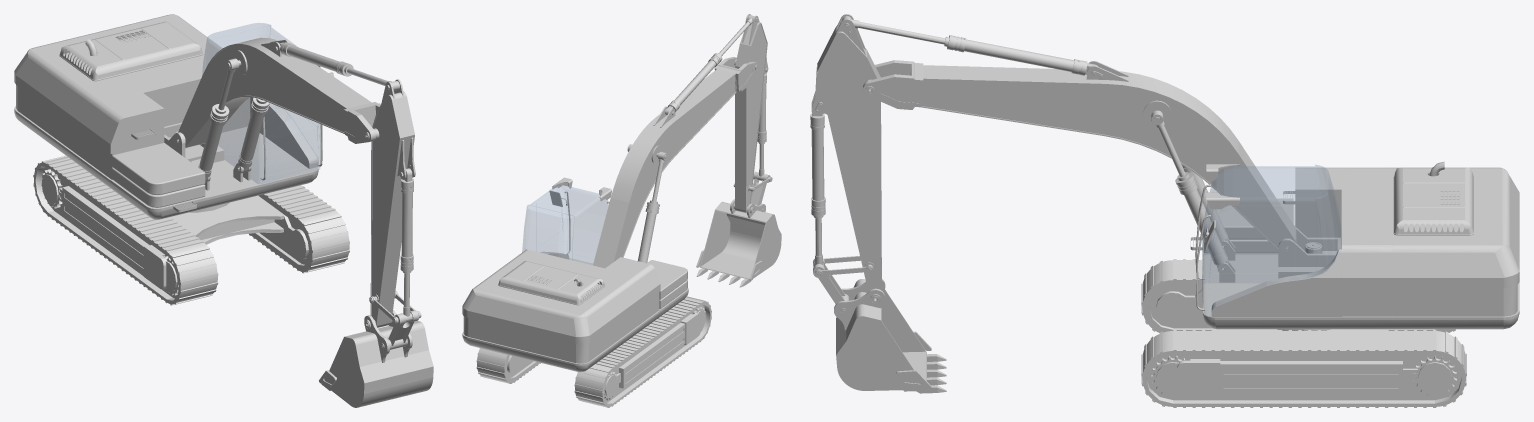
Rendered from Cat320D_full.fbx.
The picture shows the model from 3 angles, left to right: view 1: azimuth 30°, elevation 25°; view 2: azimuth 150°, elevation 25°; view 3: azimuth 270°, elevation 25°; orthographic projection. The views are drawn at different scales.
Visible parts, largest first — view 1: cuerpo, llanta_completa2, Objeto_Poligonal_10, Objeto_Poligonal_49, Objeto_Poligonal_19, mano, llanta_completa1, rejilla, Objeto_Poligonal_26, Objeto_Poligonal_25, Objeto_Poligonal_33, Objeto_Poligonal_39 (+8 smaller); view 2: cuerpo, Objeto_Poligonal_10, llanta_completa2, Objeto_Poligonal_19, mano, Objeto_Poligonal_49, rejilla, llanta_completa1, Objeto_Poligonal_26, Objeto_Poligonal_12, tuboo_2_brazo, pistón (+2 smaller); view 3: cuerpo, llanta_completa1, Objeto_Poligonal_10, Objeto_Poligonal_19, Objeto_Poligonal_49, mano, rejilla, llanta_completa2, Objeto_Poligonal_12, Objeto_Poligonal_28, tuboo_2_brazo, Objeto_Poligonal_39 (+5 smaller).
Boxes of the visible parts, x1,y1,x2,y2 form: cuerpo: (14, 14, 318, 219); llanta_completa2: (34, 156, 217, 304); Objeto_Poligonal_10: (178, 37, 371, 147); Objeto_Poligonal_49: (369, 92, 414, 327); Objeto_Poligonal_19: (202, 23, 320, 183); mano: (323, 321, 433, 407); llanta_completa1: (249, 185, 349, 272); rejilla: (59, 21, 203, 81); Objeto_Poligonal_26: (112, 143, 205, 195); Objeto_Poligonal_25: (169, 196, 283, 244); Objeto_Poligonal_33: (112, 168, 205, 207); Objeto_Poligonal_39: (400, 168, 413, 273); cuerpo: (462, 249, 688, 371); Objeto_Poligonal_10: (593, 69, 736, 268); llanta_completa2: (575, 297, 711, 406); Objeto_Poligonal_19: (522, 184, 608, 264); mano: (699, 201, 781, 279); Objeto_Poligonal_49: (734, 22, 767, 213); rejilla: (498, 260, 604, 305); llanta_completa1: (477, 348, 540, 382); Objeto_Poligonal_26: (647, 260, 687, 299); Objeto_Poligonal_12: (714, 57, 758, 91); tuboo_2_brazo: (665, 53, 722, 115); pistón: (638, 200, 659, 263); cuerpo: (1190, 167, 1519, 329); llanta_completa1: (1142, 330, 1465, 407); Objeto_Poligonal_10: (921, 65, 1296, 249); Objeto_Poligonal_19: (1202, 165, 1341, 316); Objeto_Poligonal_49: (817, 26, 881, 291); mano: (836, 279, 926, 390); rejilla: (1393, 167, 1473, 235); llanta_completa2: (1142, 259, 1454, 332); Objeto_Poligonal_12: (863, 60, 923, 109); Objeto_Poligonal_28: (1278, 226, 1340, 278); tuboo_2_brazo: (944, 35, 1097, 75); Objeto_Poligonal_39: (810, 113, 825, 218).
Size of the model in its own units: 117 by 195 by 348.
